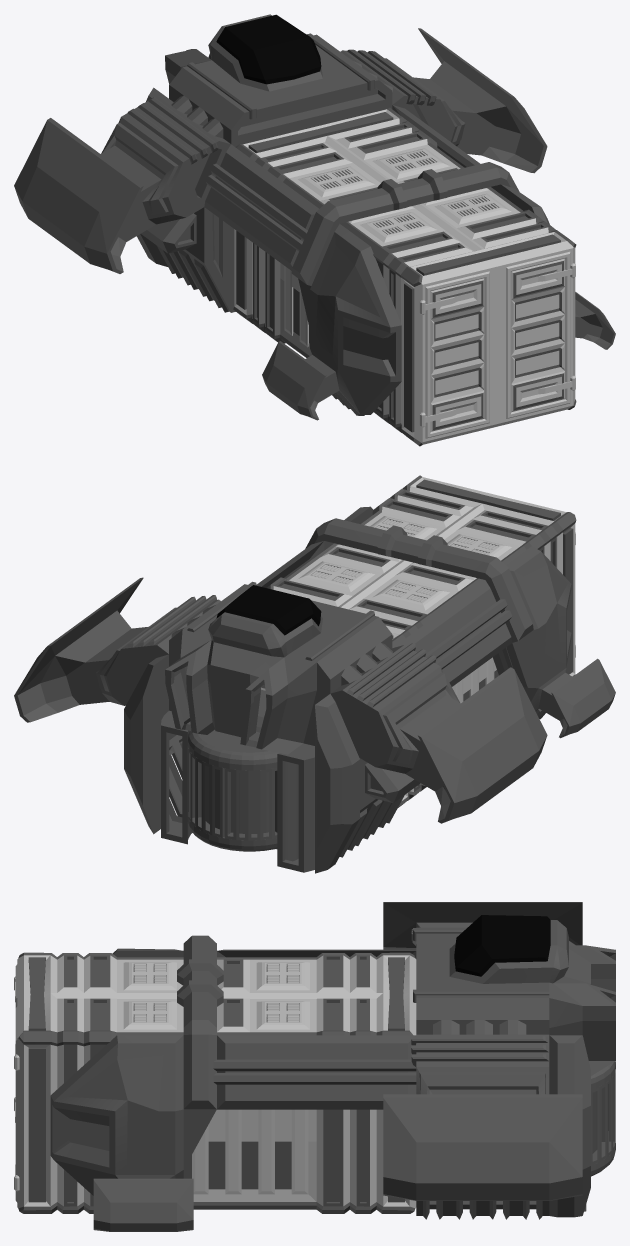
File: airshiploader-440.dae
3 renders of one model, top to bottom at view 1: azimuth 30°, elevation 25°; view 2: azimuth 150°, elevation 25°; view 3: azimuth 270°, elevation 25°, orthographic. The views are drawn at different scales.
Parts seen in each view (by area): view 1: airshiploader-440; view 2: airshiploader-440; view 3: airshiploader-440.
Boxes of the visible parts, x1,y1,x2,y2 form: airshiploader-440: [14, 14, 615, 446]; airshiploader-440: [14, 475, 615, 873]; airshiploader-440: [14, 902, 615, 1231].
Bounding box in the file's own units: 11.85 × 12.67 × 5.74.
